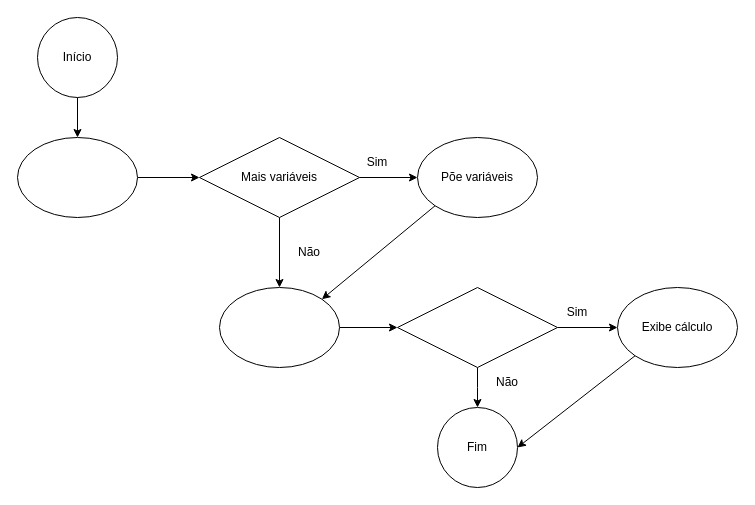
The diagram is 755 pixels wide and 505 high, and some of its shapes have lost their labels. The centre of each missing label's shape, as x and y in pixels:
Escolhe anestésico: pixel 77 177
Exibir cálculo: pixel 477 327
Faz o cálculo: pixel 279 327
